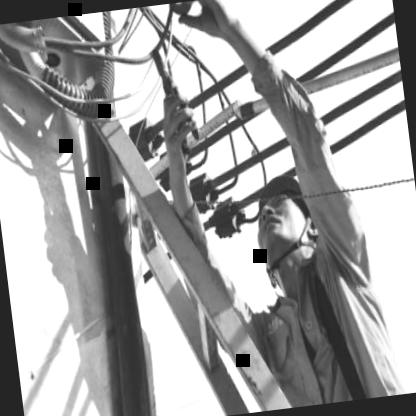helmet: (240, 158, 325, 306)
